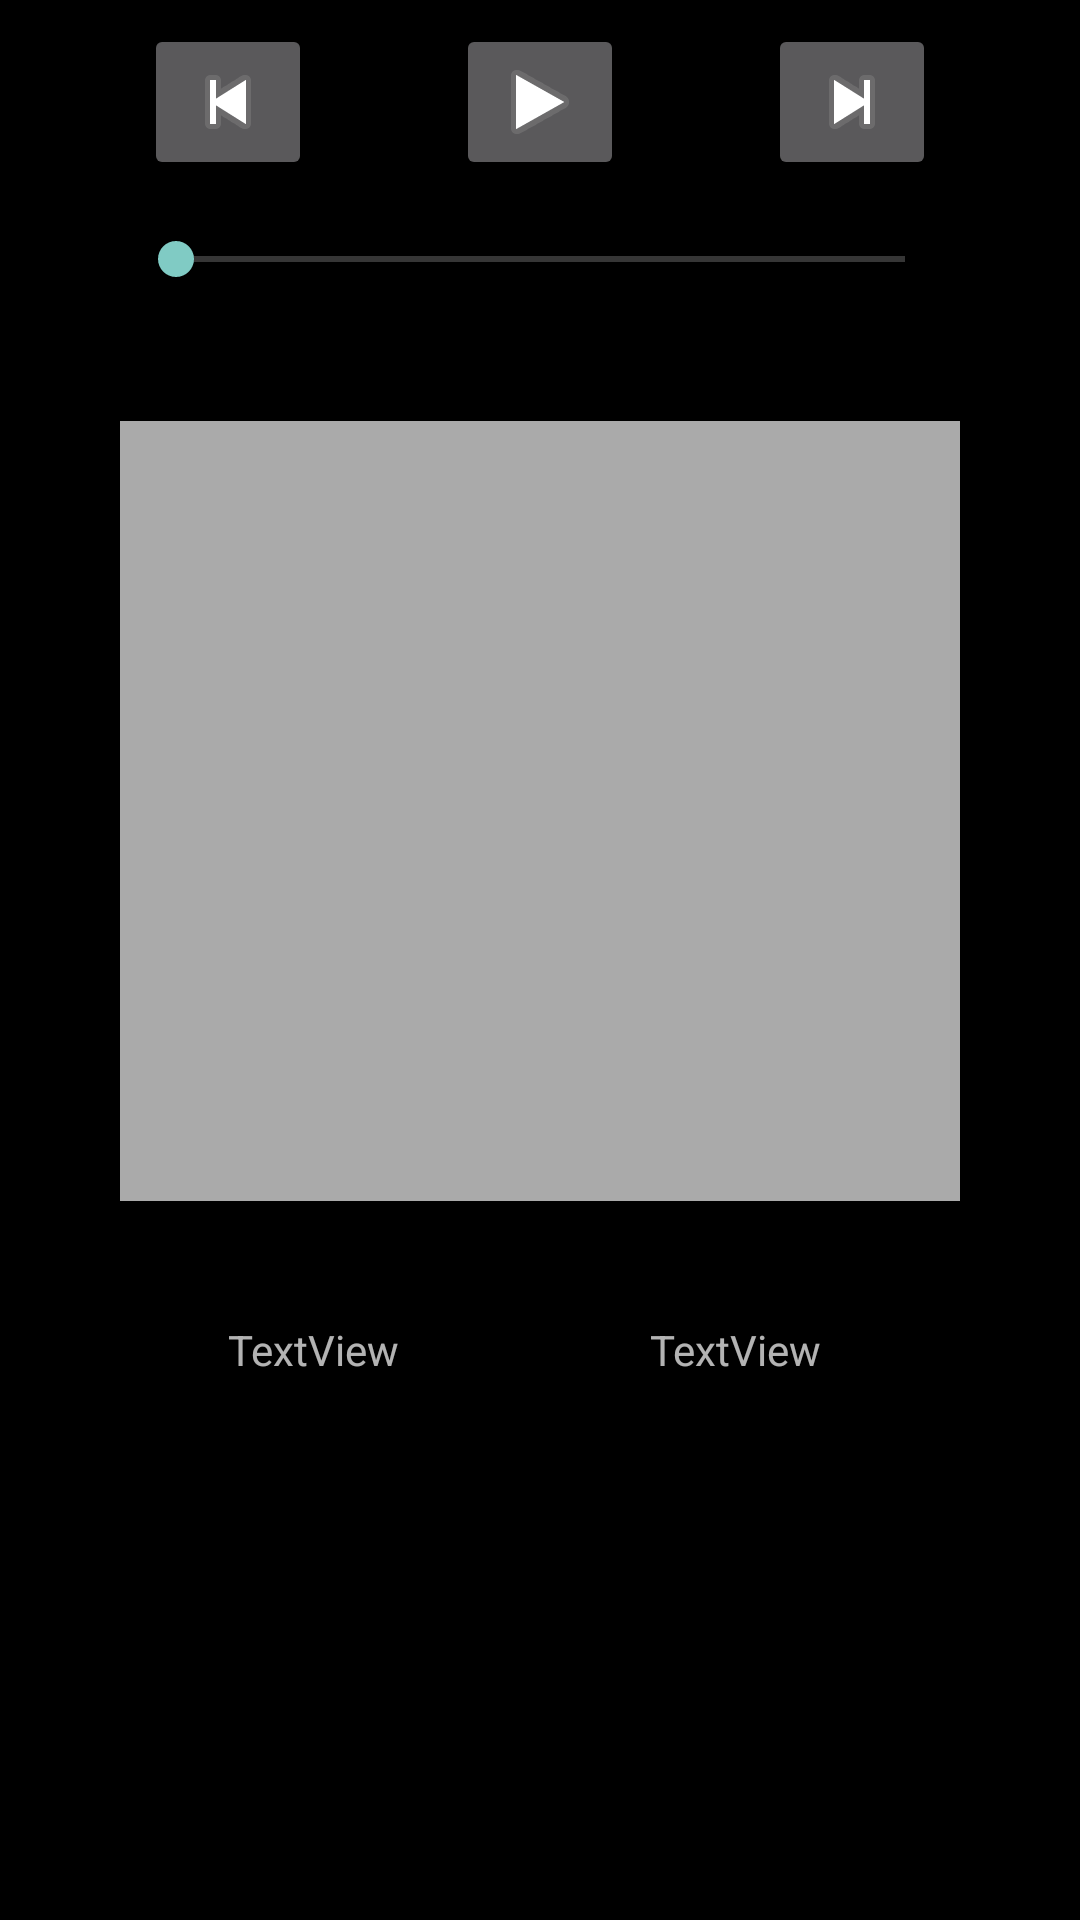

Icons on this 1080px x 1920px Android screen, each with the point to tap as [x,y]:
next: [852,102]
play: [540,102]
previous: [228,102]
